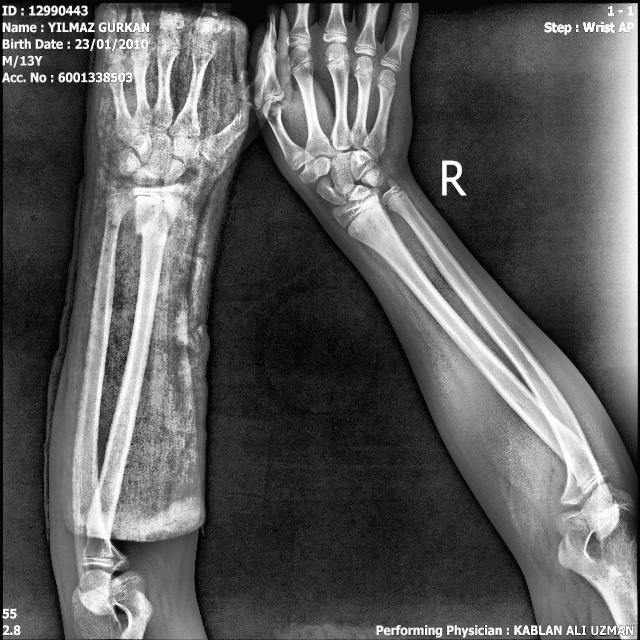Fracture: (131, 217, 173, 254)
